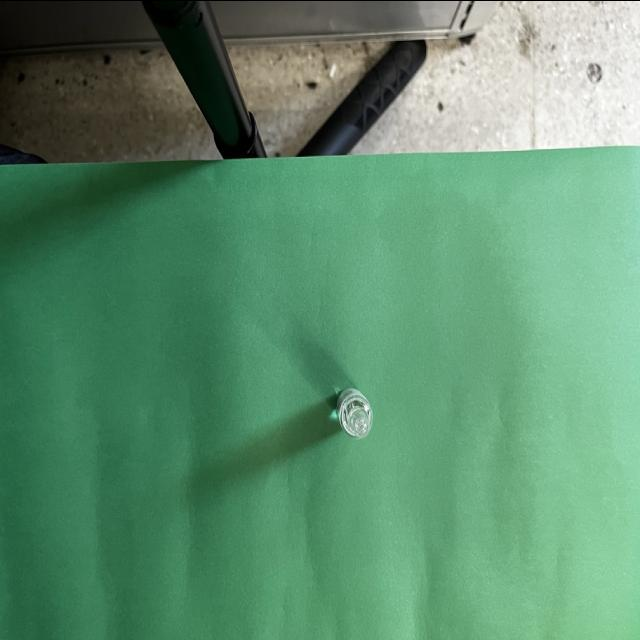Ampoules: (335, 387, 373, 439)
